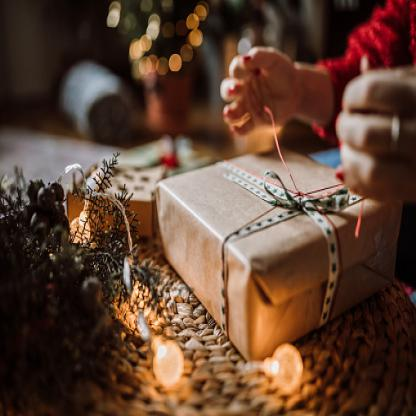present: (174, 105, 396, 351)
